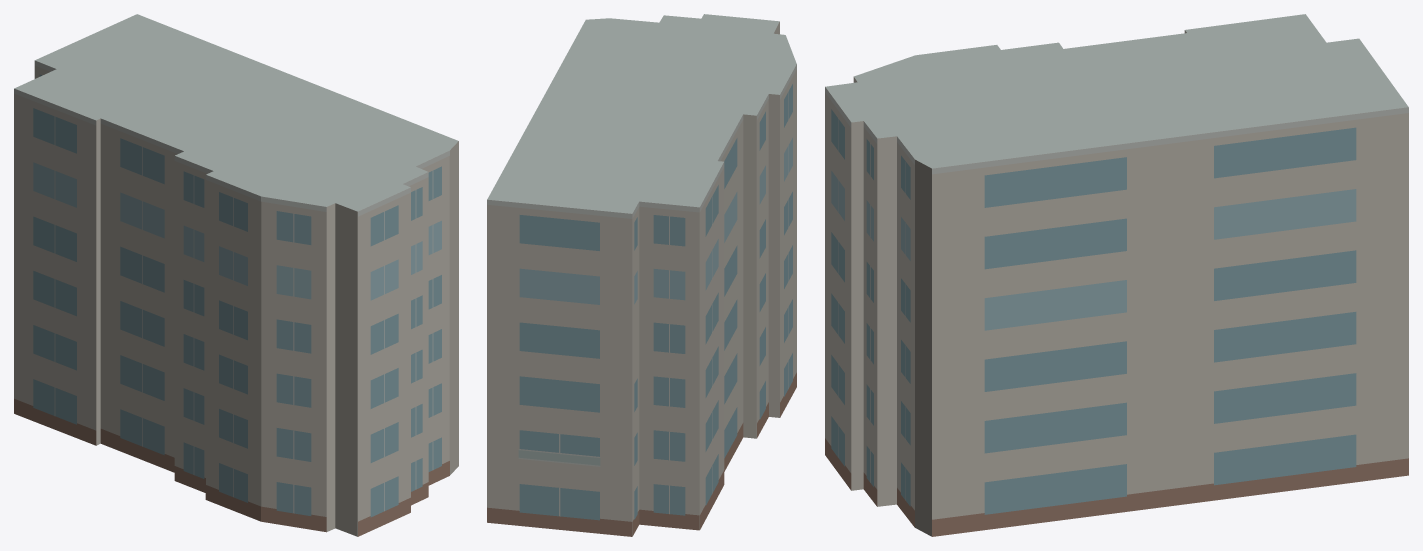
File: survey-upis-32656235.glb
3 views of the same model, side by side, from view 1: azimuth 30°, elevation 25°; view 2: azimuth 150°, elevation 25°; view 3: azimuth 270°, elevation 25° (orthographic). The views are drawn at different scales.
Parts seen in each view (by area): view 1: survey-upis-32656235.tmp; view 2: survey-upis-32656235.tmp; view 3: survey-upis-32656235.tmp.
Boxes of the visible parts, box(x1,y1,x2,y2) form: survey-upis-32656235.tmp: box(14, 14, 458, 536); survey-upis-32656235.tmp: box(487, 14, 796, 536); survey-upis-32656235.tmp: box(825, 14, 1408, 536).
Size of the model in its own units: 13.96 by 15.5 by 22.27.
